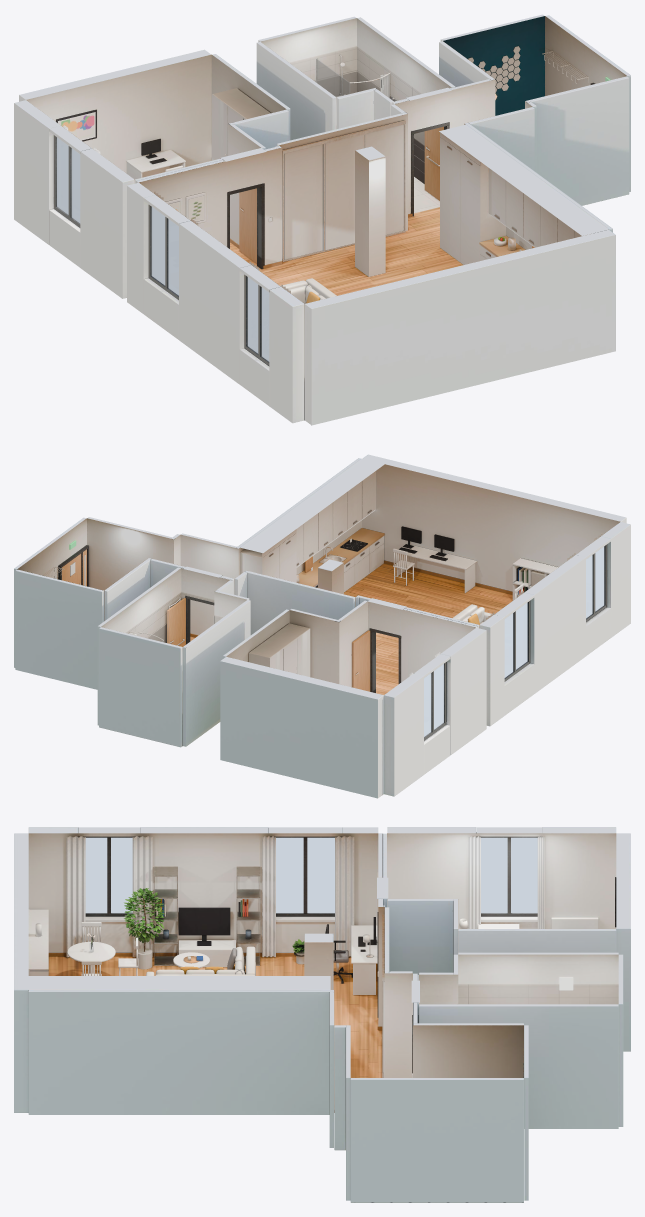
Rendered from flat_baked_no_ceiling_table2.glb.
The picture shows the model from 3 angles, top to bottom: view 1: azimuth 30°, elevation 25°; view 2: azimuth 150°, elevation 25°; view 3: azimuth 270°, elevation 25°; orthographic projection. The views are drawn at different scales.
Visible parts, largest first — view 1: zapec_telo_0, zapec_zdi_1, zapec_nabytek_6, zapec_podlahy_2, sklo_okno_67, sklo_okno_111, sklo_okno_74, sprchova_stena_295, zapec_nabytek_7; view 2: zapec_telo_0, zapec_zdi_1, zapec_nabytek_6, zapec_podlahy_2, zapec_nabytek_7, sklo_okno_67, sklo_okno_111, sklo_okno_74; view 3: zapec_telo_0, zapec_zdi_1, zapec_nabytek_6, zapec_zaclony_5, zapec_podlahy_2, sklo_okno_67, sklo_okno_111, sklo_okno_74, zapec_listy_4, zapec_nabytek_7.
Part boxes in pixels (bbox=[...]): zapec_telo_0: bbox=[14, 14, 630, 425]; zapec_zdi_1: bbox=[26, 16, 626, 420]; zapec_nabytek_6: bbox=[126, 46, 581, 303]; zapec_podlahy_2: bbox=[230, 177, 462, 295]; sklo_okno_67: bbox=[151, 207, 178, 295]; sklo_okno_111: bbox=[57, 137, 80, 223]; sklo_okno_74: bbox=[247, 277, 269, 361]; sprchova_stena_295: bbox=[317, 59, 349, 96]; zapec_nabytek_7: bbox=[165, 51, 610, 251]; zapec_telo_0: bbox=[14, 454, 630, 798]; zapec_zdi_1: bbox=[17, 458, 620, 745]; zapec_nabytek_6: bbox=[70, 470, 558, 691]; zapec_podlahy_2: bbox=[190, 563, 512, 694]; zapec_nabytek_7: bbox=[44, 538, 523, 640]; sklo_okno_67: bbox=[504, 603, 527, 677]; sklo_okno_111: bbox=[424, 664, 443, 736]; sklo_okno_74: bbox=[586, 546, 604, 618]; zapec_telo_0: bbox=[14, 827, 630, 1202]; zapec_zdi_1: bbox=[28, 832, 618, 1112]; zapec_nabytek_6: bbox=[28, 866, 598, 1077]; zapec_zaclony_5: bbox=[66, 836, 544, 957]; zapec_podlahy_2: bbox=[48, 956, 382, 1077]; sklo_okno_67: bbox=[276, 837, 334, 913]; sklo_okno_111: bbox=[481, 837, 537, 913]; sklo_okno_74: bbox=[85, 837, 132, 913]; zapec_listy_4: bbox=[124, 888, 304, 952]; zapec_nabytek_7: bbox=[35, 922, 412, 1077].
Bounding box in the file's own units: 11.92 × 2.71 × 12.3.
9 materials, 7 textured.
